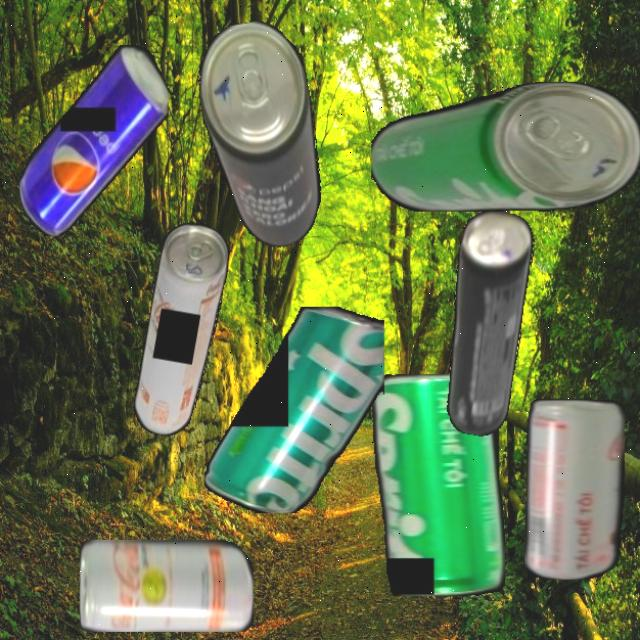debris: (204, 306, 384, 513), (189, 14, 335, 256), (370, 82, 640, 212), (373, 373, 505, 596), (18, 44, 169, 236), (428, 206, 542, 440), (130, 218, 234, 441), (524, 398, 624, 580), (79, 539, 254, 632)
